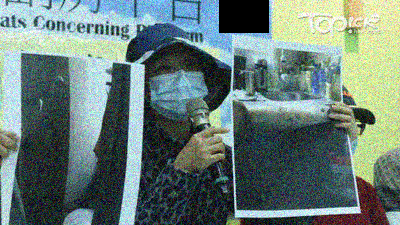with_mask: (145, 56, 209, 121)
